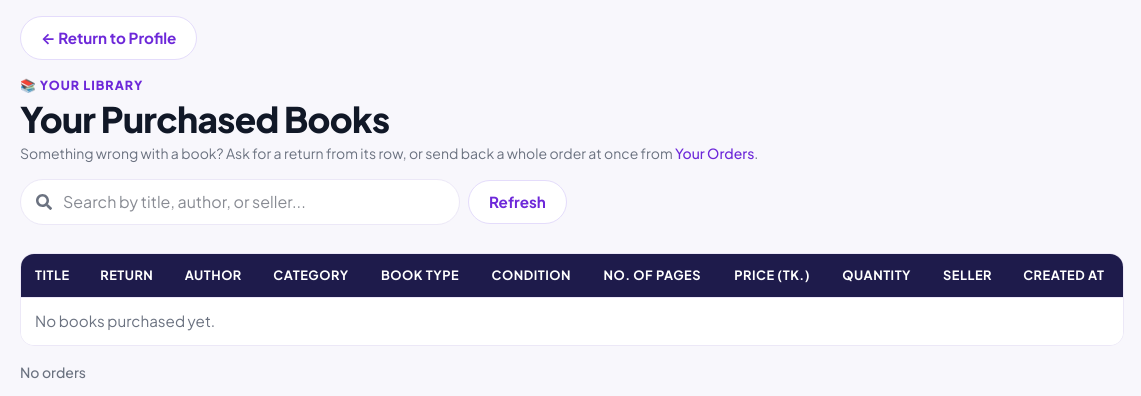
Test case: bought books › says a search matched nothing, rather than that nothing was bought
Expected: the text "No books purchased yet." is shown, x1=21 y1=298 x2=1123 y2=345
Type "Aranyak" into the field with placeholder "Search by title, author, or seller...".
click(240, 202); type("Aranyak")  # box x1=20 y1=179 x2=460 y2=225
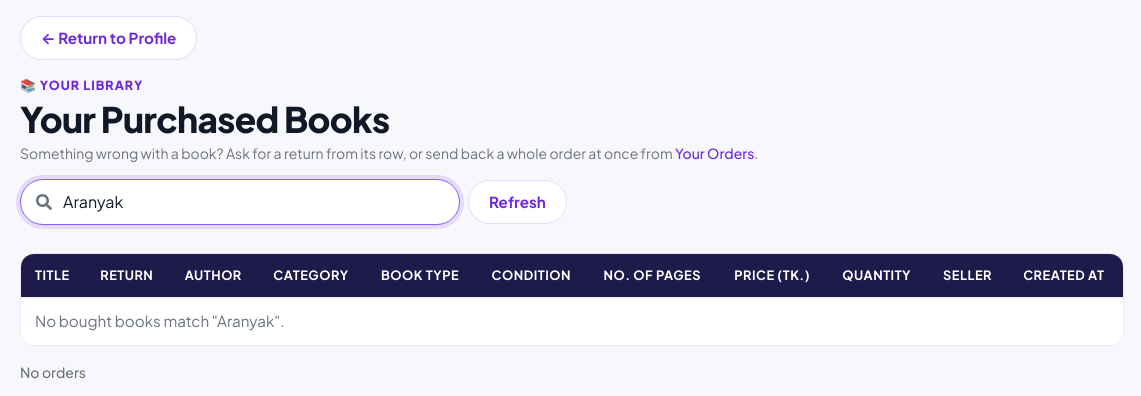
Expected: the text "No bought books match \"Aranyak\"." is shown, x1=21 y1=298 x2=1123 y2=345
